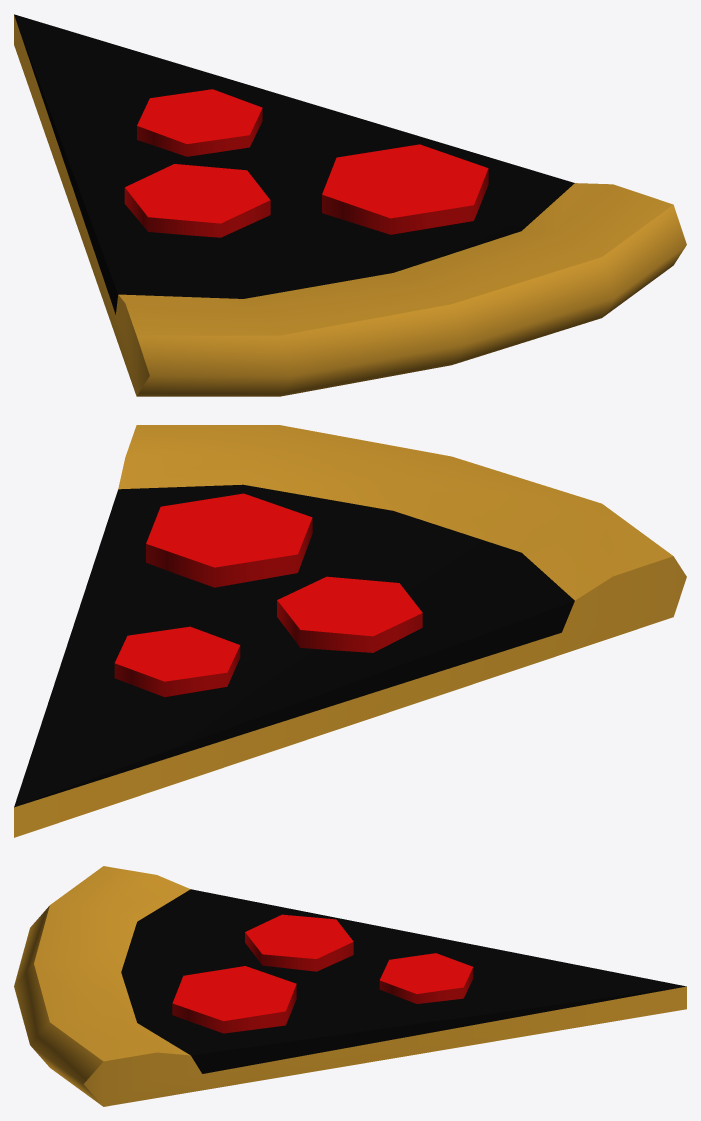
The model's file is Bullet_Pizza_01.fbx.
The picture shows the model from 3 angles, top to bottom: view 1: azimuth 30°, elevation 25°; view 2: azimuth 150°, elevation 25°; view 3: azimuth 270°, elevation 25°; orthographic projection. The views are drawn at different scales.
Parts seen in each view (by area): view 1: Bullet_Pizza_01; view 2: Bullet_Pizza_01; view 3: Bullet_Pizza_01.
Part boxes in pixels (x1=…): Bullet_Pizza_01: x1=14, y1=14, x2=686, y2=396; Bullet_Pizza_01: x1=14, y1=425, x2=686, y2=837; Bullet_Pizza_01: x1=14, y1=866, x2=686, y2=1106.
Size of the model in its own units: 35.6 by 51.79 by 4.05.
